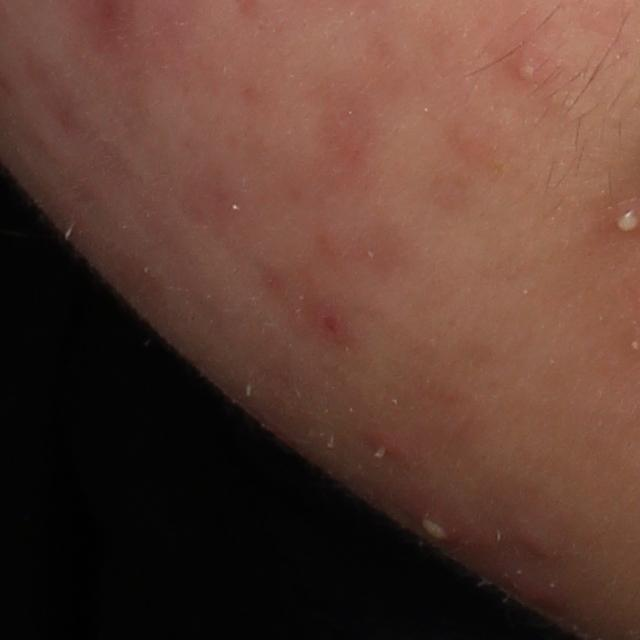pustule: (415, 508, 456, 548)
